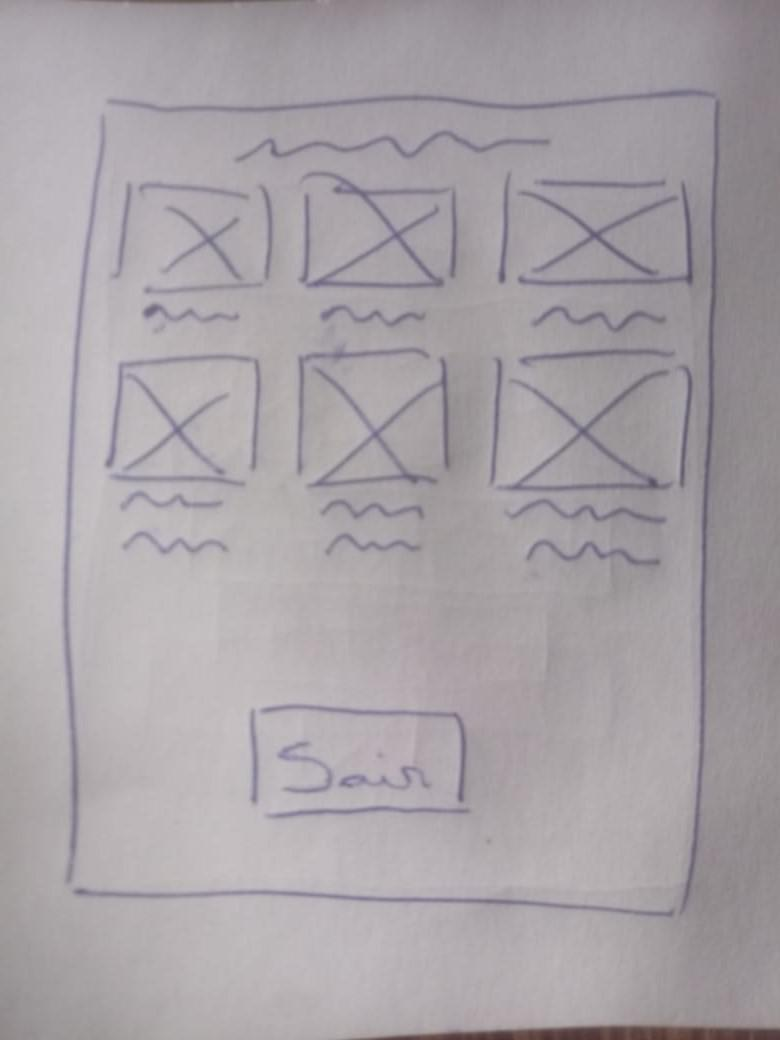Button: (251, 705, 467, 819)
Image: (494, 350, 692, 492), (298, 347, 450, 489), (502, 174, 693, 285), (106, 354, 260, 486), (119, 180, 272, 295), (304, 182, 458, 288)
Label: (505, 497, 670, 570), (234, 129, 550, 165), (119, 488, 230, 556), (319, 498, 429, 556), (531, 305, 668, 329), (319, 301, 428, 327), (143, 301, 240, 326)
Screen: (62, 92, 718, 919)
